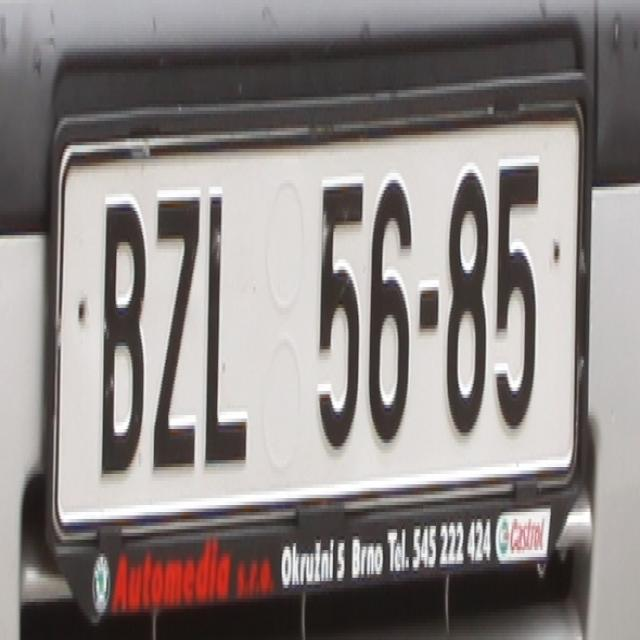5: (317, 170, 362, 460), (494, 146, 539, 426)
6: (366, 170, 413, 450)
8: (443, 156, 488, 442)
B: (94, 176, 148, 484)
L: (206, 183, 251, 457)
Z: (150, 184, 202, 464)
